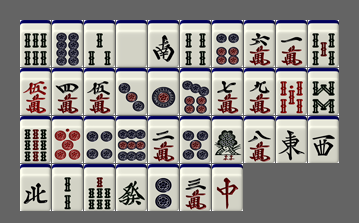0m: (20, 68, 51, 115)
0p: (52, 116, 83, 163)
0s: (276, 68, 307, 115)
1m: (276, 20, 307, 67)
1p: (148, 68, 179, 115)
1s: (212, 116, 243, 163)
1z: (276, 116, 307, 163)
2m: (148, 116, 179, 163)
2p: (148, 164, 179, 211)
2s: (52, 164, 83, 211)
2z: (148, 20, 179, 67)
3m: (180, 164, 211, 211)
3p: (116, 68, 147, 115)
3s: (84, 20, 115, 67)
3z: (308, 116, 339, 163)
4m: (52, 68, 83, 115)
4p: (84, 116, 115, 163)
4s: (180, 20, 211, 67)
4z: (20, 164, 51, 211)
5m: (84, 68, 115, 115)
5p: (180, 116, 211, 163)
5s: (308, 20, 339, 67)
5z: (116, 20, 147, 67)
6m: (244, 20, 275, 67)
6p: (212, 20, 243, 67)
6s: (20, 20, 51, 67)
6z: (116, 164, 147, 211)
7m: (212, 68, 243, 115)
7p: (180, 68, 211, 115)
7s: (84, 164, 115, 211)
7z: (212, 164, 243, 211)
8m: (244, 116, 275, 163)
8p: (52, 20, 83, 67)
8s: (308, 68, 339, 115)
9m: (244, 68, 275, 115)
9p: (116, 116, 147, 163)
9s: (20, 116, 51, 163)
